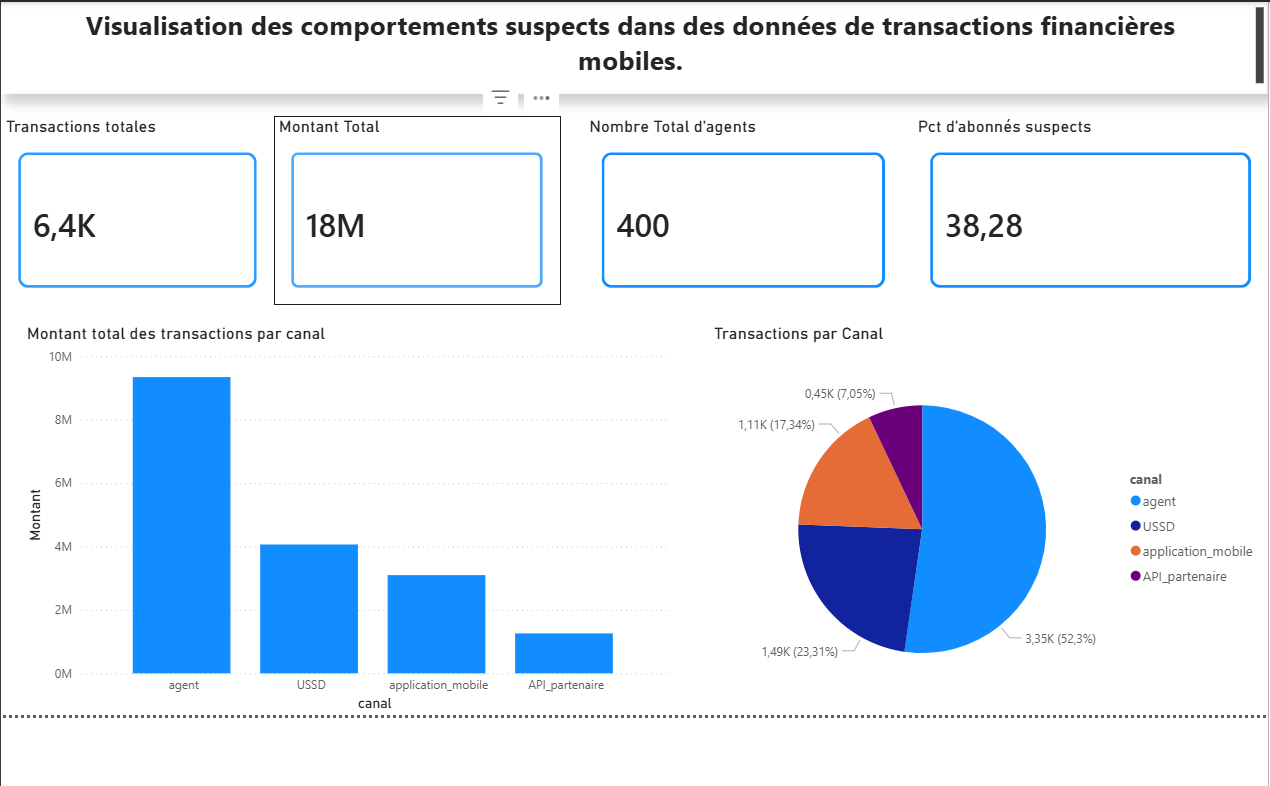

Layout of this report page (visuals, bound fields, positions):
{"tool":"powerbi","page":{"name":"Main_KPIs","canvas":[1280,720],"ordinal":1},"visuals":[{"type":"textbox","box":[0,0,1279.4,92.6],"z":0},{"type":"cardVisual","title":"Transactions totales","fields":{"Data":["Count(dataset_fraude_benin.id_transaction)"]},"box":[0,115.3,275.9,190.9],"z":1000},{"type":"cardVisual","title":"Montant Total","fields":{"Data":["Sum(dataset_fraude_benin.montant)"]},"box":[276.3,115.3,289,191.1],"z":2000},{"type":"cardVisual","title":"Nombre Total d''agents","fields":{"Data":["Count(dataset_fraude_benin.id_agent)"]},"box":[589,115.3,320.5,191.1],"z":3000},{"type":"cardVisual","title":"Pct d''abonnés suspects","fields":{"Data":["dataset_fraude_benin.Pct_clients_a_risque"]},"box":[920.5,115.3,358.4,191.1],"z":4000},{"type":"pieChart","title":"Transactions par Canal","fields":{"Category":["dataset_fraude_benin.canal"],"Y":["CountNonNull(dataset_fraude_benin.id_transaction)"]},"box":[715.3,323.7,563.7,396.3],"z":5000},{"type":"clusteredColumnChart","title":"Montant total des transactions par canal","fields":{"Category":["dataset_fraude_benin.canal"],"Y":["Sum(dataset_fraude_benin.montant)"]},"box":[20.5,323.7,656.9,396.3],"z":6000}]}

Visuals, with their boxes on the page's 1280x720 design canvas (x1, y1, x2, y2). These are canvas units, not pixel positions in the 1270x786 screenshot, which may show the page scaled, cropped or inside an application window:
textbox: [0, 0, 1279, 93]
"Transactions totales" cardVisual: [0, 115, 276, 306]
"Montant Total" cardVisual: [276, 115, 565, 306]
"Nombre Total d''agents" cardVisual: [589, 115, 910, 306]
"Pct d''abonnés suspects" cardVisual: [920, 115, 1279, 306]
"Transactions par Canal" pieChart: [715, 324, 1279, 720]
"Montant total des transactions par canal" clusteredColumnChart: [20, 324, 677, 720]
